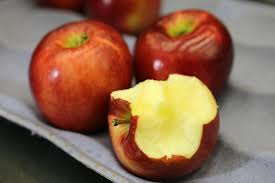apple: (33, 26, 134, 127), (131, 14, 234, 93)
damaged_apple: (104, 76, 222, 182)
